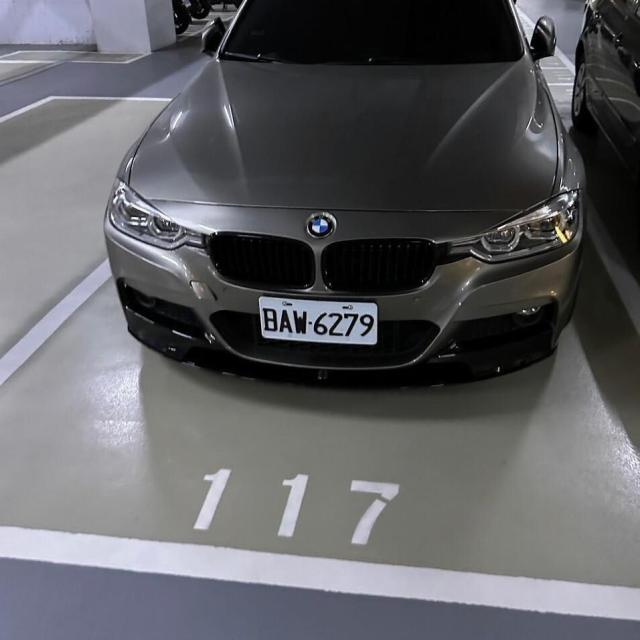W: (246, 287, 388, 353)
